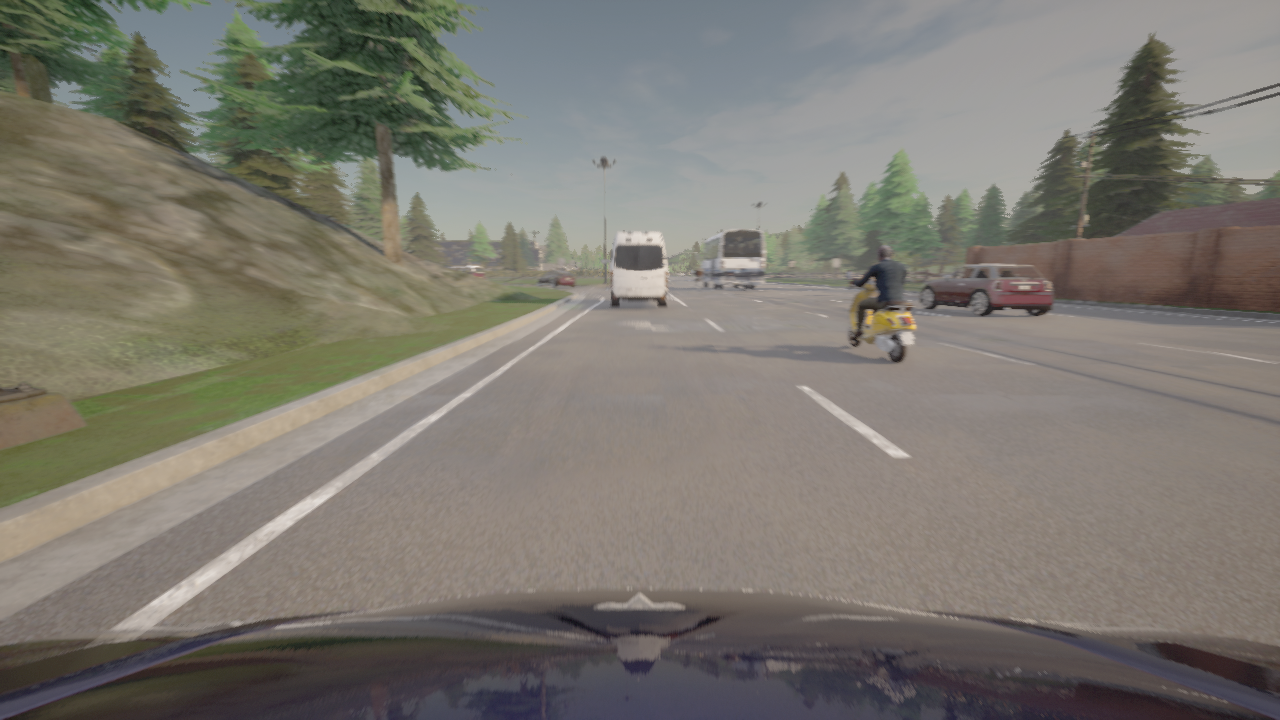cyclist: (0, 588, 1279, 719), (919, 264, 1053, 316), (846, 271, 916, 363), (609, 232, 668, 307), (697, 228, 764, 289), (536, 270, 576, 287), (449, 265, 485, 279), (696, 280, 699, 291)
